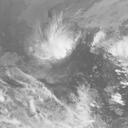cyclone: (39, 31, 71, 60)
